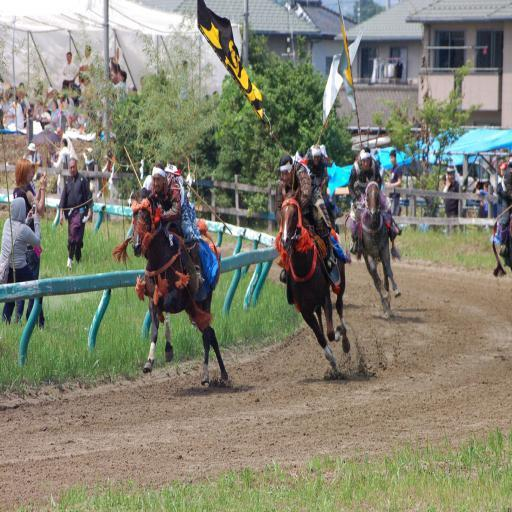horse: (132, 187, 230, 387), (280, 186, 350, 374), (348, 176, 402, 318)
